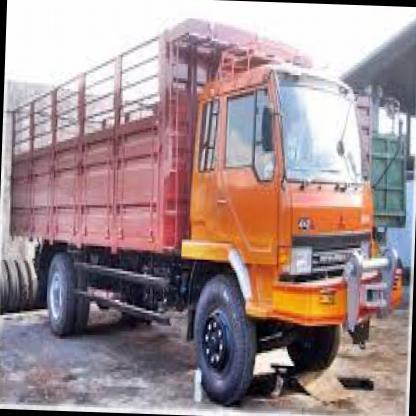truck: (178, 61, 385, 409)
